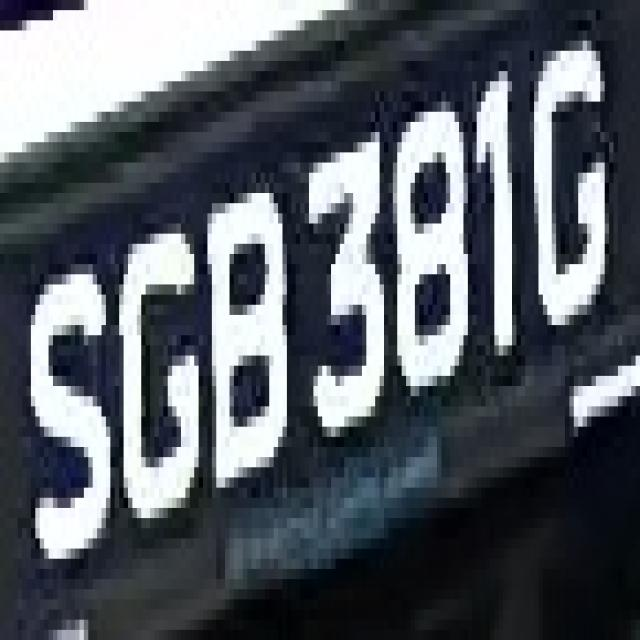1: (459, 31, 530, 396)
3: (296, 112, 406, 467)
8: (379, 61, 476, 427)
B: (181, 152, 287, 498)
G: (516, 21, 614, 356), (102, 203, 203, 528)
S: (22, 234, 110, 589)
